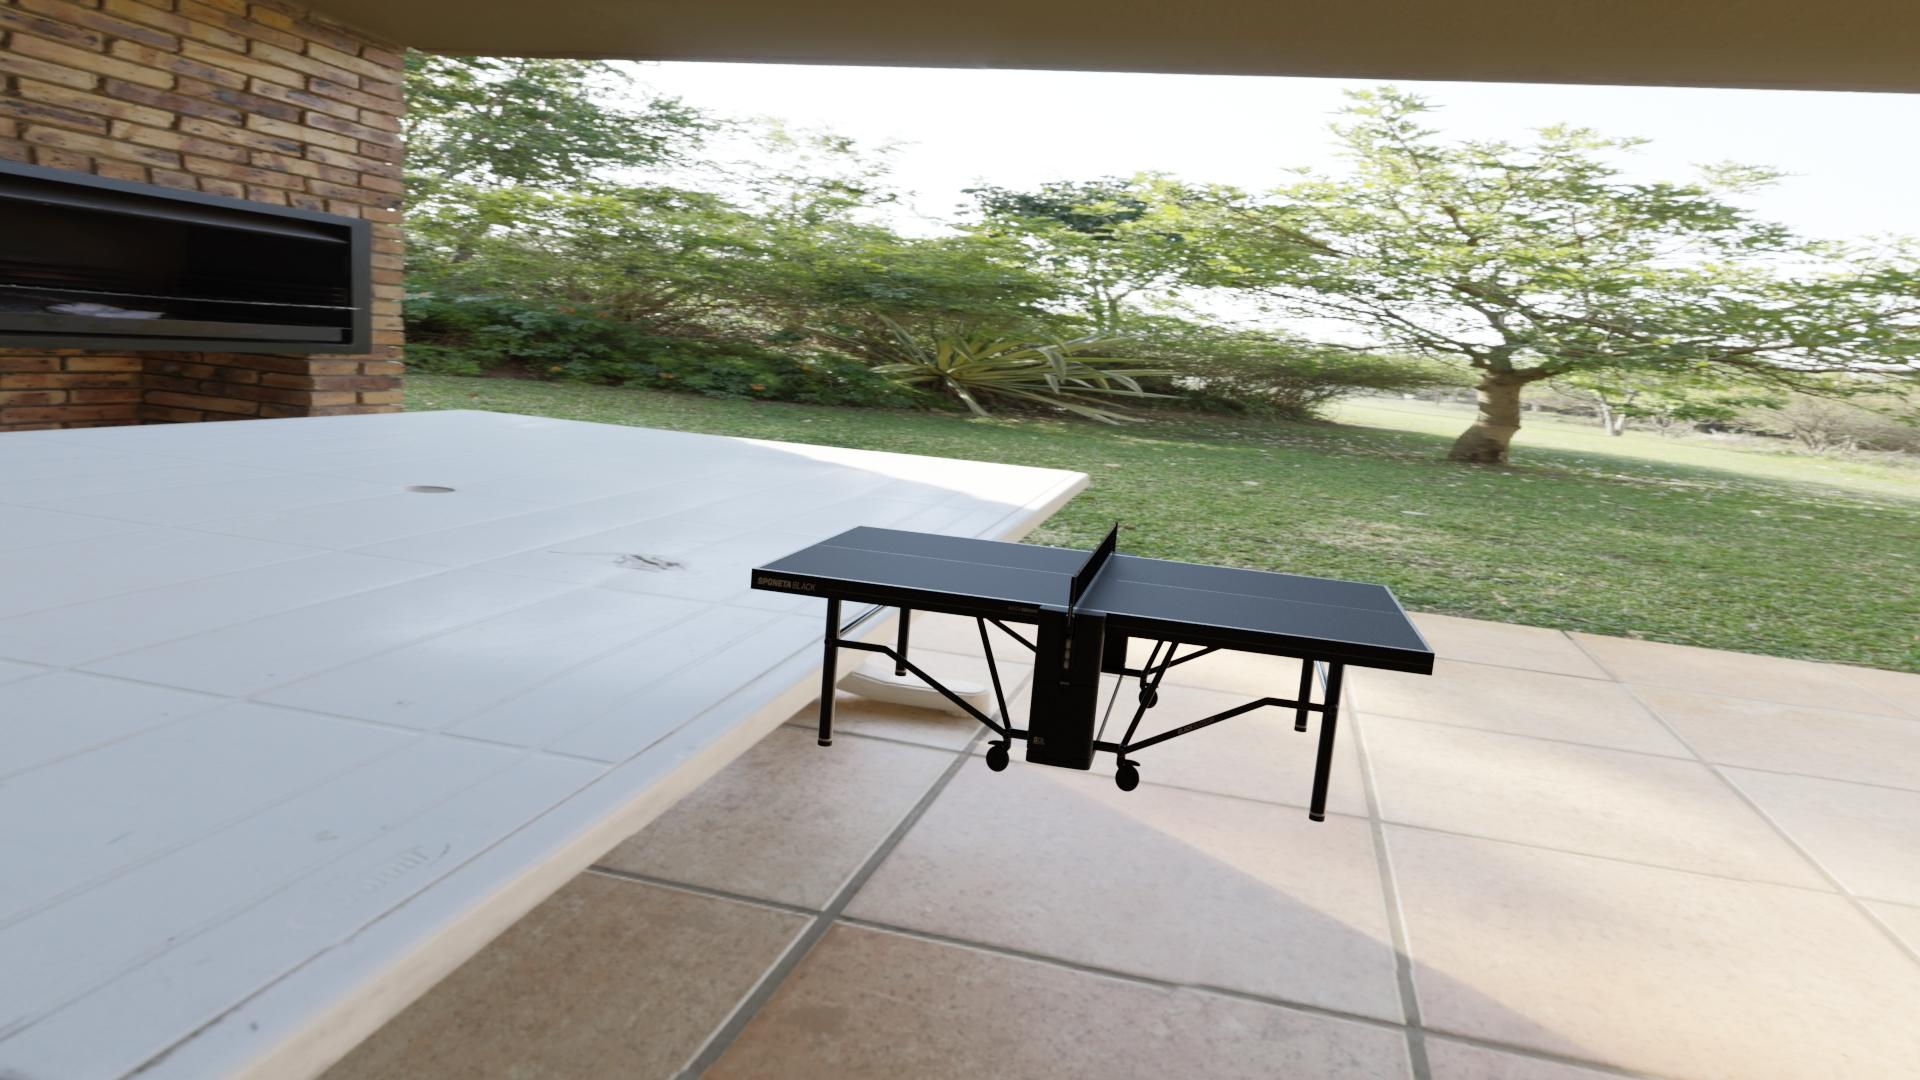table: (758, 526, 1429, 651)
